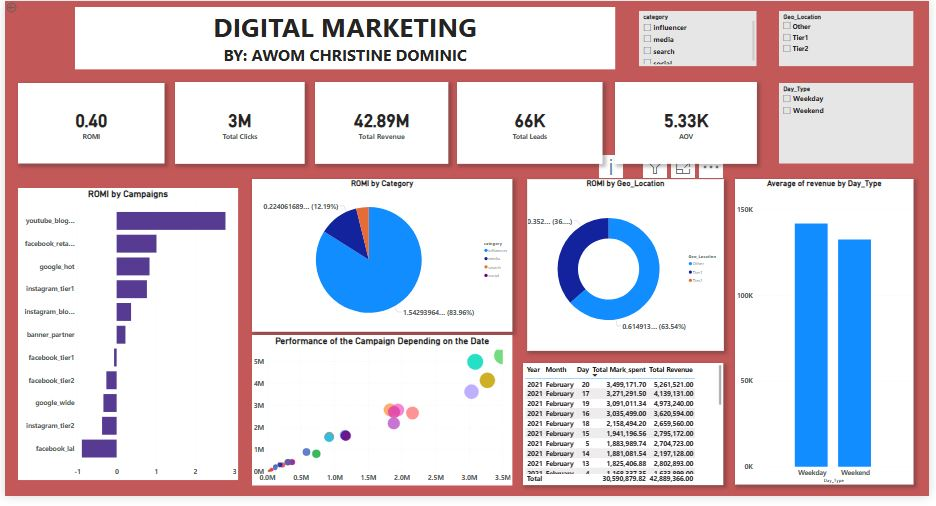

The dashboard page shown, as its layout file describes it:
{"tool":"powerbi","page":{"name":"Page 1","canvas":[2800,1500],"ordinal":0},"visuals":[{"type":"card","fields":{"Values":["Marketing.ROMI"]},"box":[40.7,248.1,444.4,244.4],"z":0},{"type":"clusteredBarChart","title":"ROMI by Campaigns","fields":{"Category":["Marketing.campaign_name"],"Y":["Marketing.ROMI"]},"box":[40.7,566.7,666.7,885.2],"z":1},{"type":"columnChart","fields":{"Category":["Marketing.Day_Type"],"Y":["Avg(Marketing.revenue)"]},"box":[2211.1,540.7,540.7,925.9],"z":2},{"type":"pieChart","title":"ROMI by Category","fields":{"Category":["Marketing.category"],"Y":["Marketing.ROMI"]},"box":[748.1,540.7,788.9,463],"z":3},{"type":"donutChart","fields":{"Category":["Marketing.Geo_Location"],"Y":["Marketing.ROMI"]},"box":[1581.5,540.7,596.3,518.5],"z":5},{"type":"tableEx","fields":{"Values":["Marketing.c_date.Variation.Date Hierarchy.Year","Marketing.c_date.Variation.Date Hierarchy.Month","Marketing.c_date.Variation.Date Hierarchy.Day","Marketing.Total Mark_spent","Marketing.Total Revenue"]},"box":[1570.4,1096.3,607.4,370.4],"z":6},{"type":"actionButton","box":[0,0,100,40],"z":7},{"type":"scatterChart","title":"Performance of the Campaign Depending on the Date","fields":{"X":["Marketing.Total Mark_spent"],"Y":["Marketing.Total Revenue"],"Size":["Marketing.Total Orders"],"Series":["Marketing.c_date"]},"box":[748.1,1011.1,788.9,455.6],"z":8},{"type":"card","fields":{"Values":["Marketing.Total Revenue"]},"box":[940.7,244.4,403.7,248.1],"z":9},{"type":"card","fields":{"Values":["Marketing.AOV"]},"box":[1848.1,244.4,429.6,248.1],"z":10},{"type":"card","fields":{"Values":["Marketing.Total Clicks"]},"box":[514.8,244.4,392.6,248.1],"z":11},{"type":"card","fields":{"Values":["Marketing.Total Leads"]},"box":[1370.4,244.4,440.7,248.1],"z":12},{"type":"textbox","box":[211.1,18.5,1637,188.9],"z":13},{"type":"slicer","fields":{"Values":["Marketing.category"]},"box":[1922.2,29.6,355.6,166.7],"z":14},{"type":"slicer","fields":{"Values":["Marketing.Geo_Location"]},"box":[2344.4,29.6,407.4,166.7],"z":15},{"type":"slicer","fields":{"Values":["Marketing.Day_Type"]},"box":[2344.4,248.1,407.4,244.4],"z":16}]}

Visuals, with their boxes in screenshot pixels (x1, y1, x2, y2), scaled from the page's 2800x1500 canvas onto the 936x506 screenshot:
card - Marketing.ROMI: bbox=[14, 84, 162, 166]
"ROMI by Campaigns" clusteredBarChart: bbox=[14, 191, 236, 490]
columnChart - Marketing.Day_Type x Avg(Marketing.revenue): bbox=[739, 182, 920, 495]
"ROMI by Category" pieChart: bbox=[250, 182, 514, 339]
donutChart - Marketing.Geo_Location x Marketing.ROMI: bbox=[529, 182, 728, 357]
tableEx - Marketing.c_date.Variation.Date Hierarchy.Year x Marketing.c_date.Variation.Date Hierarchy.Month: bbox=[525, 370, 728, 495]
actionButton: bbox=[0, 0, 33, 13]
"Performance of the Campaign Depending on the Date" scatterChart: bbox=[250, 341, 514, 495]
card - Marketing.Total Revenue: bbox=[314, 82, 449, 166]
card - Marketing.AOV: bbox=[618, 82, 761, 166]
card - Marketing.Total Clicks: bbox=[172, 82, 303, 166]
card - Marketing.Total Leads: bbox=[458, 82, 605, 166]
textbox: bbox=[71, 6, 618, 70]
slicer - Marketing.category: bbox=[643, 10, 761, 66]
slicer - Marketing.Geo_Location: bbox=[784, 10, 920, 66]
slicer - Marketing.Day_Type: bbox=[784, 84, 920, 166]
